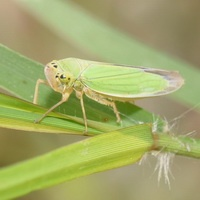insect: (34, 58, 183, 131)
